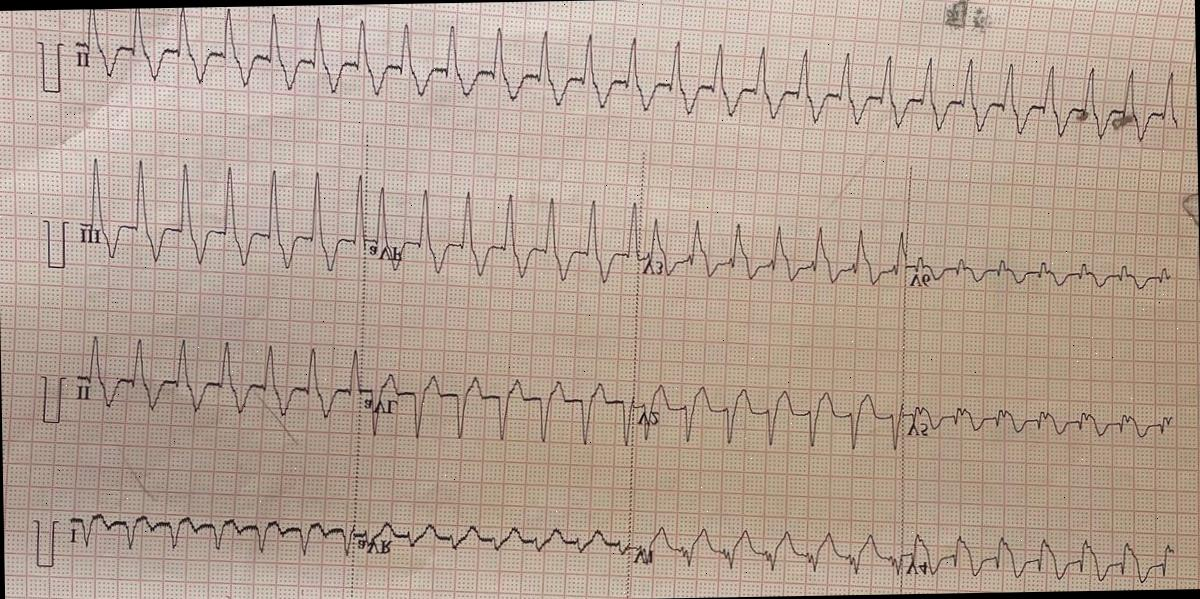Lead_I: (62, 497, 356, 567)
Lead_II: (64, 324, 369, 434)
Lead_III: (68, 150, 370, 278)
Lead_II_ext: (60, 0, 1185, 171)
Lead_V1: (630, 501, 905, 589)
Lead_V2: (636, 371, 908, 459)
Lead_V3: (634, 199, 910, 307)
Lead_V4: (902, 503, 1194, 594)
Lead_V5: (902, 377, 1184, 466)
Lead_V6: (906, 244, 1190, 308)
Lead_aVF: (363, 154, 647, 303)
Lead_aVL: (355, 342, 639, 461)
Lead_aVR: (353, 495, 633, 578)
